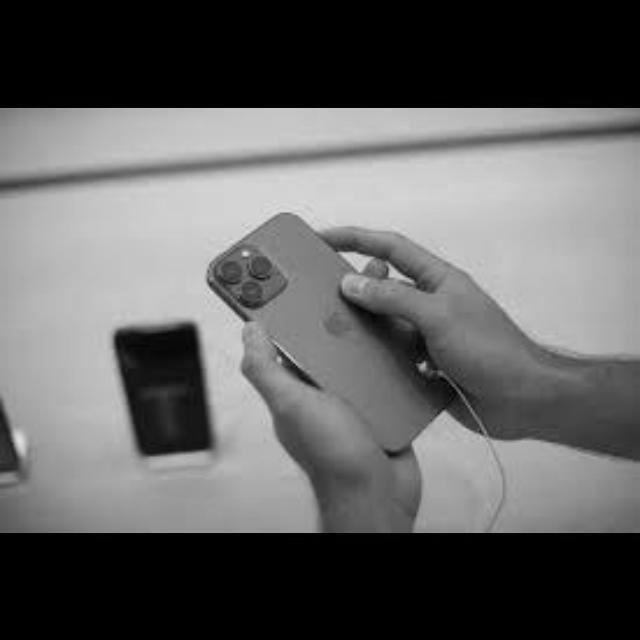fake: (192, 196, 512, 482), (111, 318, 215, 458)
